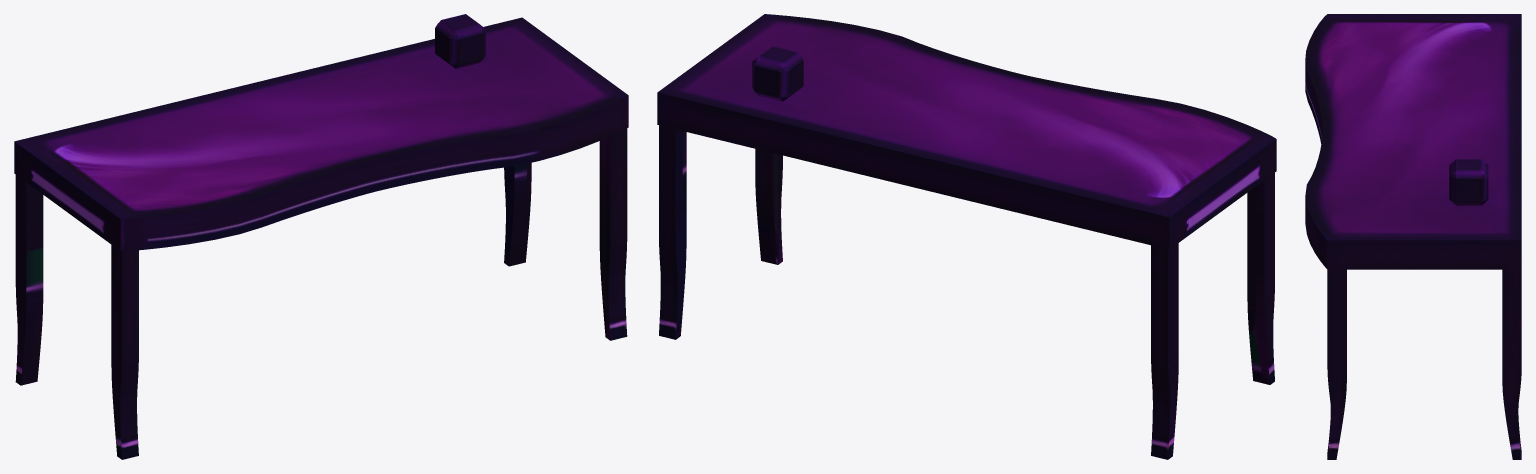
File: edited_mesh.glb
3 renders of one model, left to right at view 1: azimuth 30°, elevation 25°; view 2: azimuth 150°, elevation 25°; view 3: azimuth 270°, elevation 25°, orthographic. The views are drawn at different scales.
Parts seen in each view (by area): view 1: solid_001_wire; view 2: solid_001_wire; view 3: solid_001_wire.
Boxes of the visible parts, x1=… form: solid_001_wire: x1=14, y1=14, x2=628, y2=459; solid_001_wire: x1=657, y1=14, x2=1276, y2=459; solid_001_wire: x1=1305, y1=14, x2=1521, y2=459.
Size of the model in its own units: 1.95 by 1.03 by 0.7881.
1 material, 1 textured.
